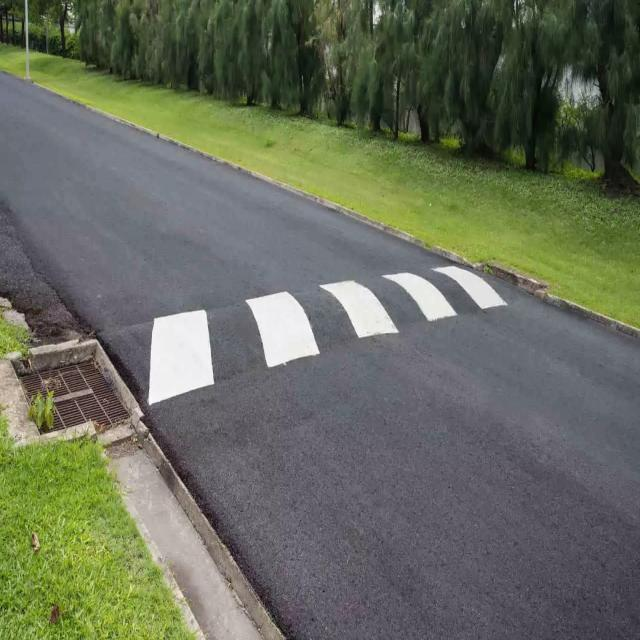speedbreaker: (116, 263, 513, 397)
